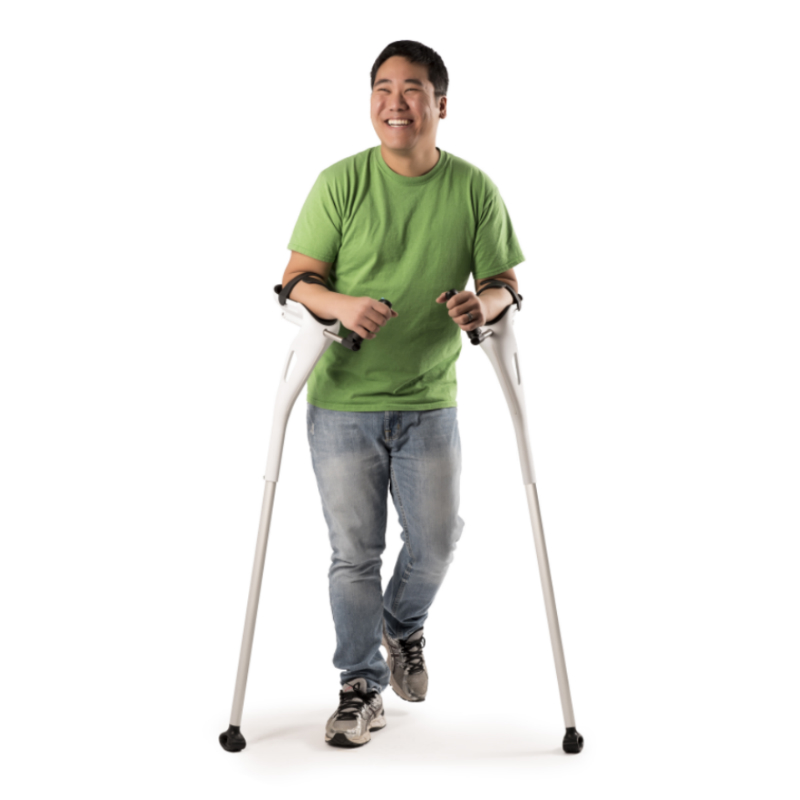crutches: (216, 39, 585, 763)
